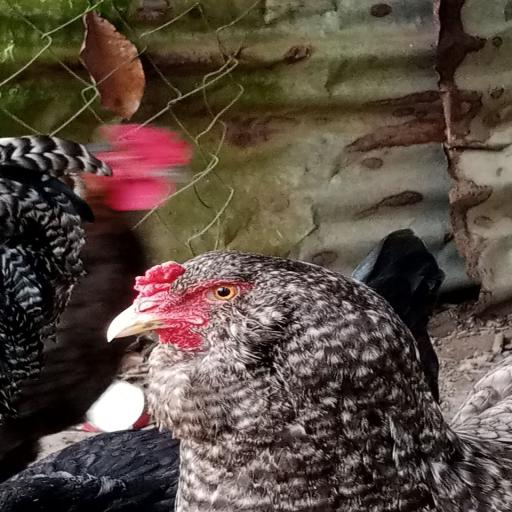healthy: (124, 232, 301, 352)
